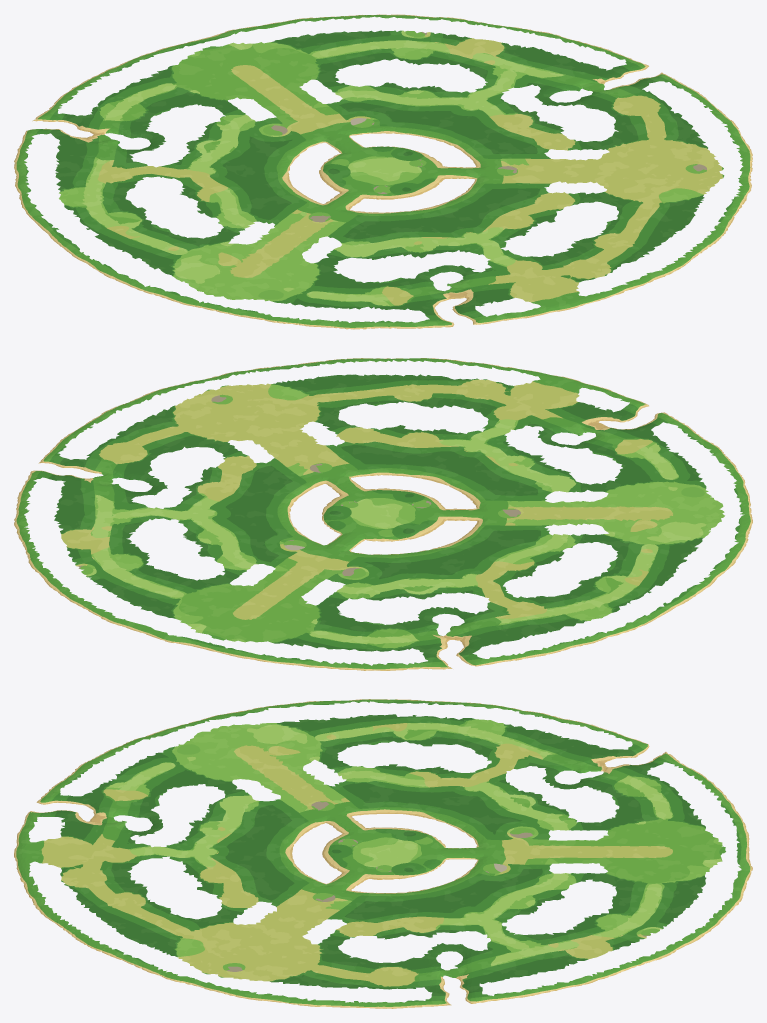
Rendered from Inv-2-Ground.fbx.
3 views of the same model, one above another, from view 1: azimuth 30°, elevation 25°; view 2: azimuth 150°, elevation 25°; view 3: azimuth 270°, elevation 25° (orthographic).
Parts seen in each view (by area): view 1: Inv-2-Ground-c21, Inv-2-Ground-c11, Inv-2-Ground-c12, Inv-2-Ground-c22, Inv-2-Ground-c01, Inv-2-Ground-c31, Inv-2-Ground-c23, Inv-2-Ground-c10, Inv-2-Ground-c13, Inv-2-Ground-c20, Inv-2-Ground-c32, Inv-2-Ground-c02 (+4 smaller); view 2: Inv-2-Ground-c21, Inv-2-Ground-c11, Inv-2-Ground-c12, Inv-2-Ground-c22, Inv-2-Ground-c23, Inv-2-Ground-c01, Inv-2-Ground-c13, Inv-2-Ground-c31, Inv-2-Ground-c10, Inv-2-Ground-c32, Inv-2-Ground-c02, Inv-2-Ground-c20 (+4 smaller); view 3: Inv-2-Ground-c11, Inv-2-Ground-c21, Inv-2-Ground-c12, Inv-2-Ground-c22, Inv-2-Ground-c31, Inv-2-Ground-c23, Inv-2-Ground-c01, Inv-2-Ground-c13, Inv-2-Ground-c32, Inv-2-Ground-c10, Inv-2-Ground-c20, Inv-2-Ground-c02 (+4 smaller).
Boxes of the visible parts, x1,y1,x2,y2 form: Inv-2-Ground-c21: [382, 130, 650, 243]; Inv-2-Ground-c11: [213, 171, 480, 284]; Inv-2-Ground-c12: [115, 99, 381, 212]; Inv-2-Ground-c22: [286, 58, 552, 171]; Inv-2-Ground-c01: [66, 212, 310, 310]; Inv-2-Ground-c31: [553, 95, 752, 201]; Inv-2-Ground-c23: [201, 14, 454, 99]; Inv-2-Ground-c10: [312, 243, 569, 328]; Inv-2-Ground-c13: [58, 39, 285, 141]; Inv-2-Ground-c20: [481, 202, 710, 309]; Inv-2-Ground-c32: [455, 34, 701, 129]; Inv-2-Ground-c02: [14, 141, 211, 249]; Inv-2-Ground-c21: [216, 400, 482, 513]; Inv-2-Ground-c11: [385, 441, 650, 554]; Inv-2-Ground-c12: [285, 513, 553, 627]; Inv-2-Ground-c22: [116, 471, 383, 584]; Inv-2-Ground-c23: [54, 543, 284, 648]; Inv-2-Ground-c01: [553, 483, 752, 592]; Inv-2-Ground-c13: [201, 585, 454, 670]; Inv-2-Ground-c31: [66, 377, 311, 471]; Inv-2-Ground-c10: [483, 378, 708, 482]; Inv-2-Ground-c32: [14, 436, 214, 543]; Inv-2-Ground-c02: [456, 555, 700, 652]; Inv-2-Ground-c20: [313, 358, 569, 441]; Inv-2-Ground-c11: [189, 769, 386, 853]; Inv-2-Ground-c21: [189, 851, 386, 934]; Inv-2-Ground-c12: [384, 769, 581, 852]; Inv-2-Ground-c22: [384, 851, 581, 934]; Inv-2-Ground-c31: [189, 934, 386, 1008]; Inv-2-Ground-c23: [580, 851, 752, 936]; Inv-2-Ground-c01: [189, 699, 386, 769]; Inv-2-Ground-c13: [580, 769, 749, 853]; Inv-2-Ground-c32: [384, 934, 581, 1008]; Inv-2-Ground-c10: [14, 769, 190, 853]; Inv-2-Ground-c20: [14, 851, 190, 936]; Inv-2-Ground-c02: [384, 699, 581, 771].
Bounding box in the file's own units: 188 × 0.4894 × 189.
